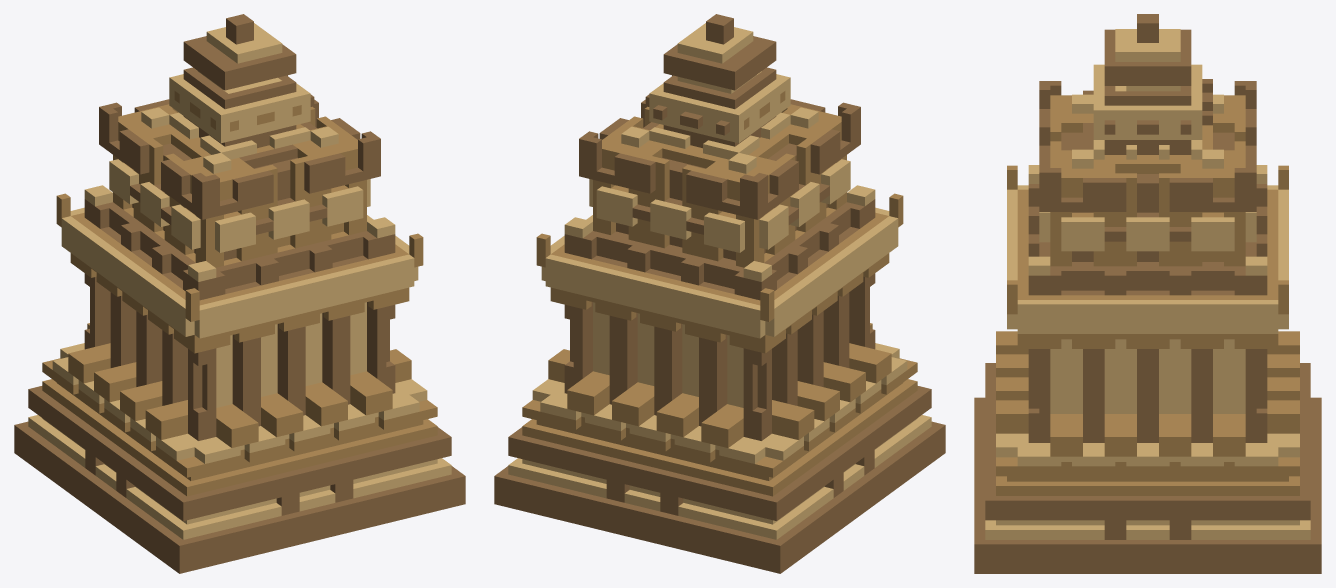
The model's file is LargePilar.obj.
The picture shows the model from 3 angles, left to right: view 1: azimuth 30°, elevation 25°; view 2: azimuth 150°, elevation 25°; view 3: azimuth 270°, elevation 25°; orthographic projection. The views are drawn at different scales.
Bounding box in the file's own units: 3.2 × 4.9 × 3.2.
1 material, 1 textured.
